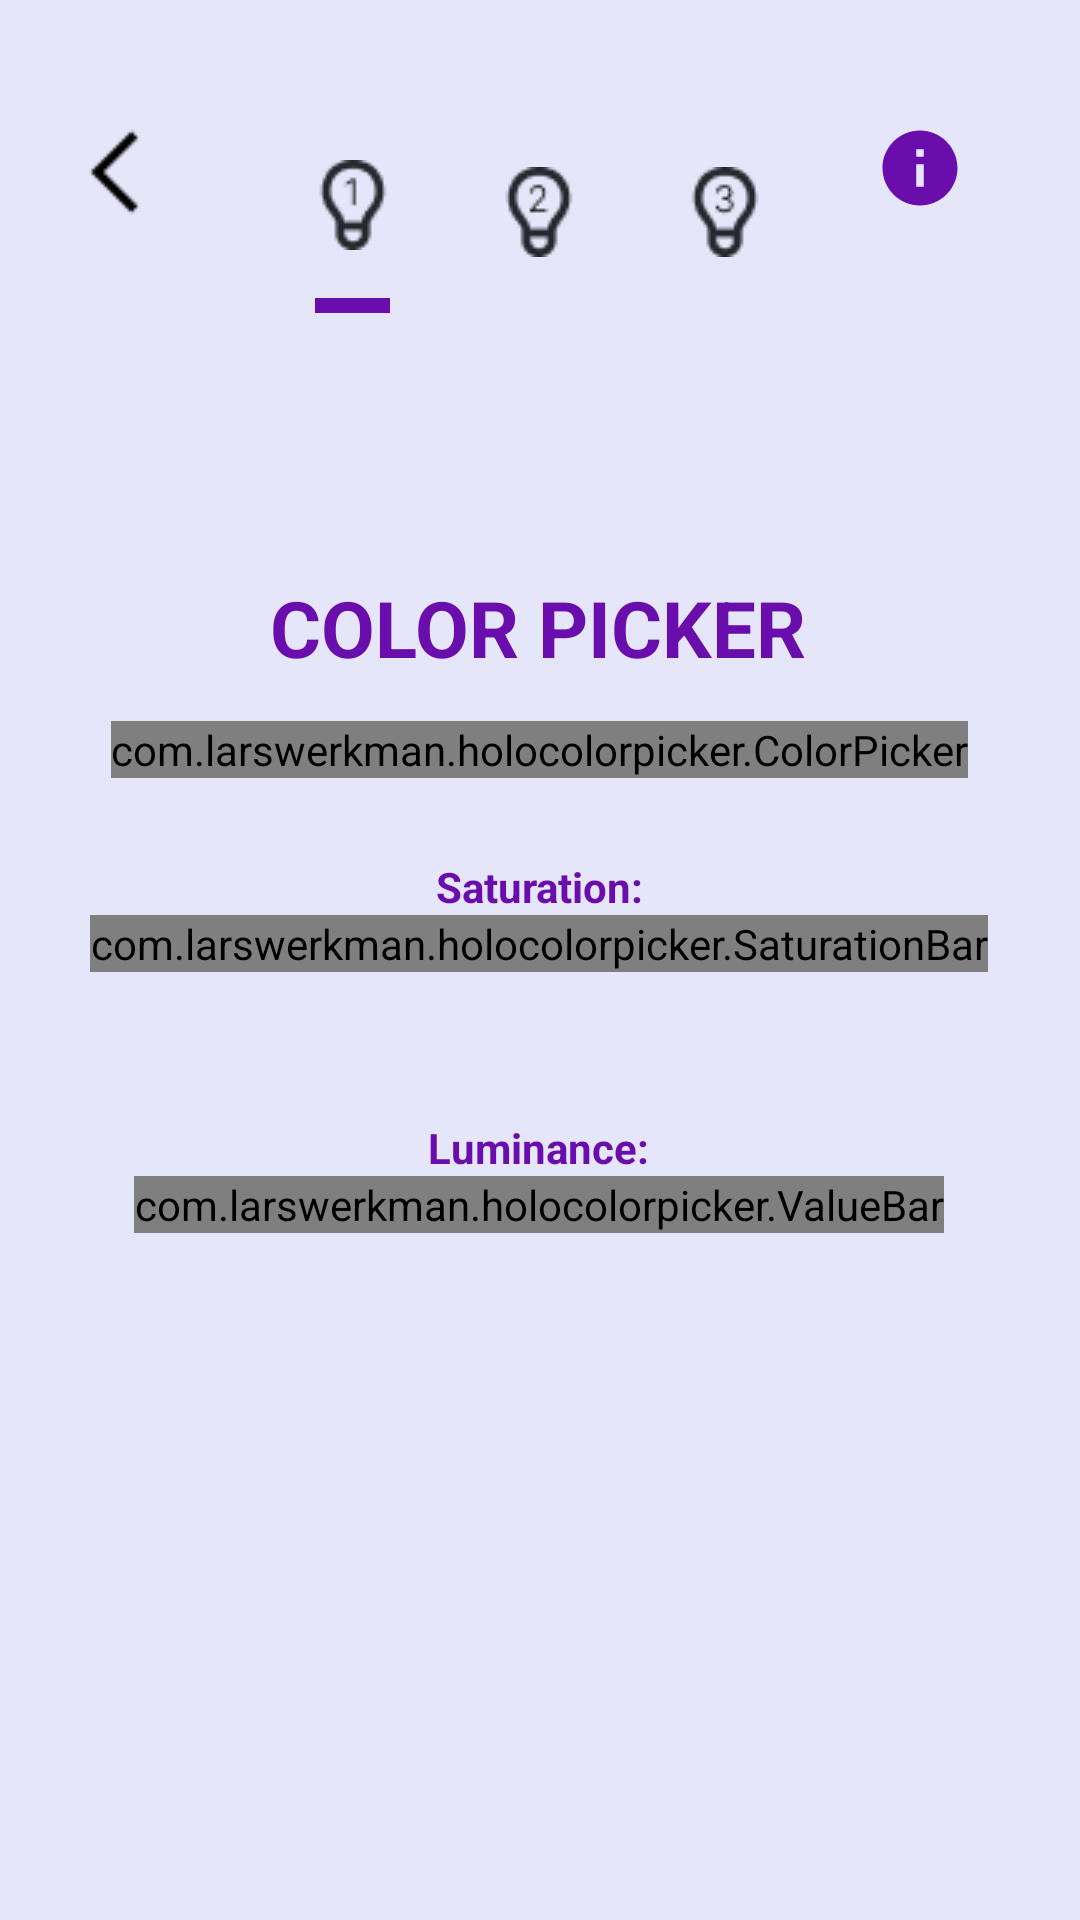

Icon click points for this 1080×1920 phone screenshot, format (x,y):
back: (114,172)
info: (920,168)
